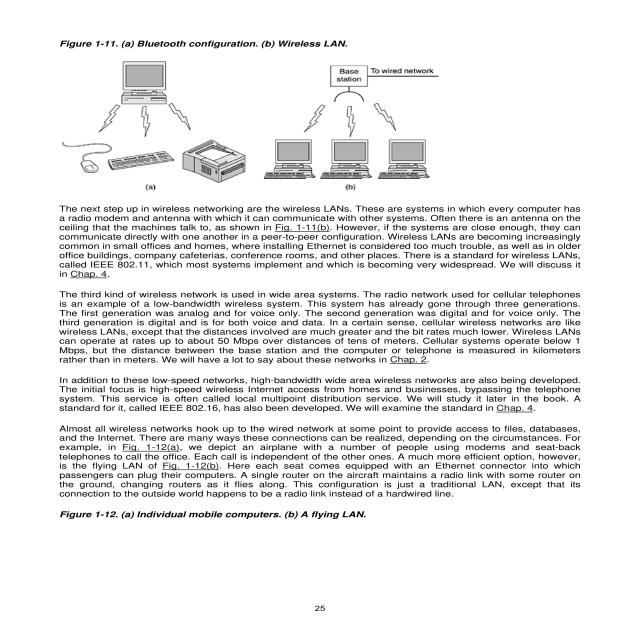diagram: (54, 28, 513, 202)
